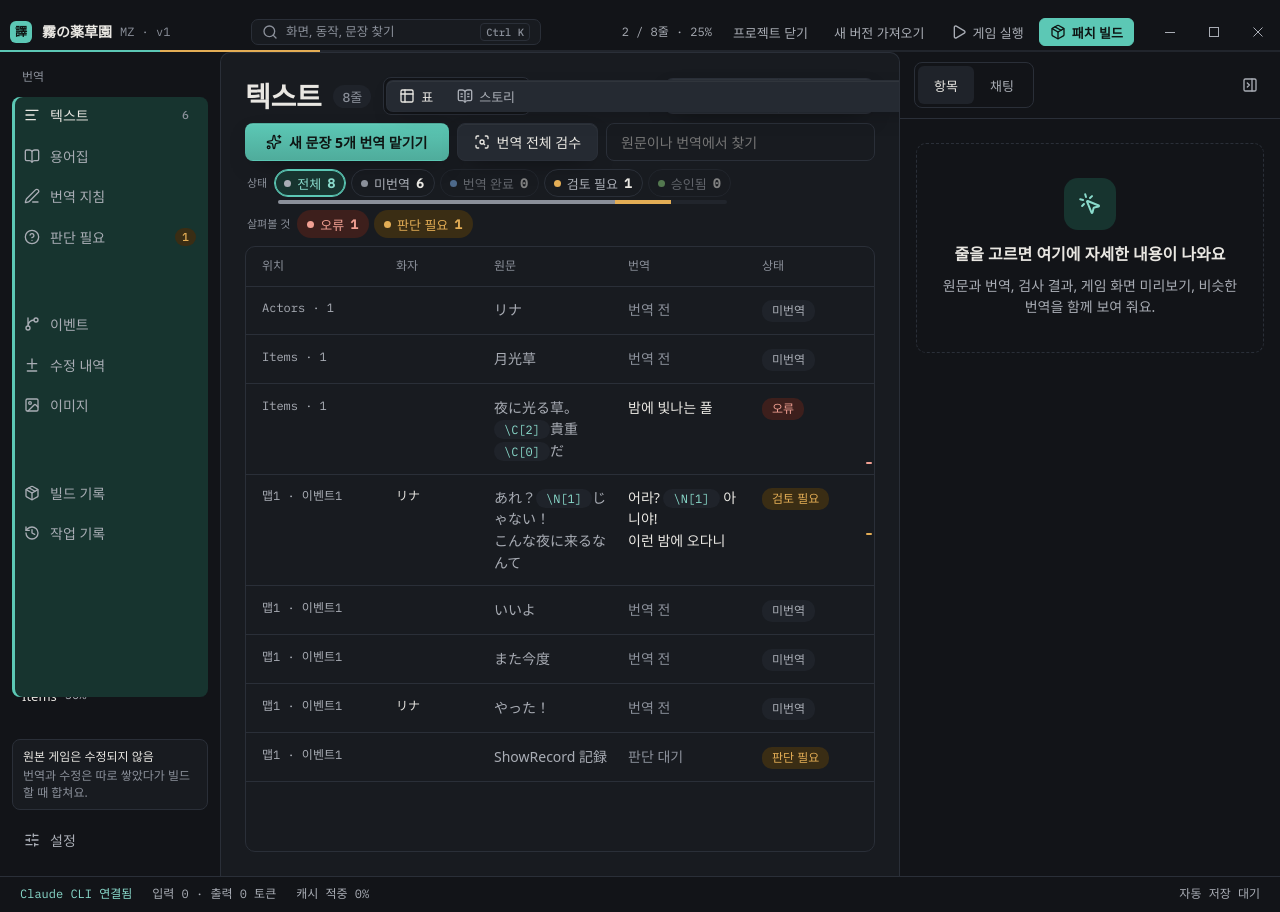
표와 스토리를 바꾸고, 범위를 고르지 않았으면 안내
The image size is (1280, 912).
Check: the text "霧の薬草園" is shown, box [42,21,112,43]
Check: the table named "텍스트 표" is shown, box [245,246,875,852]
Click the button "스토리" at (486, 96), box [445,81,527,111]
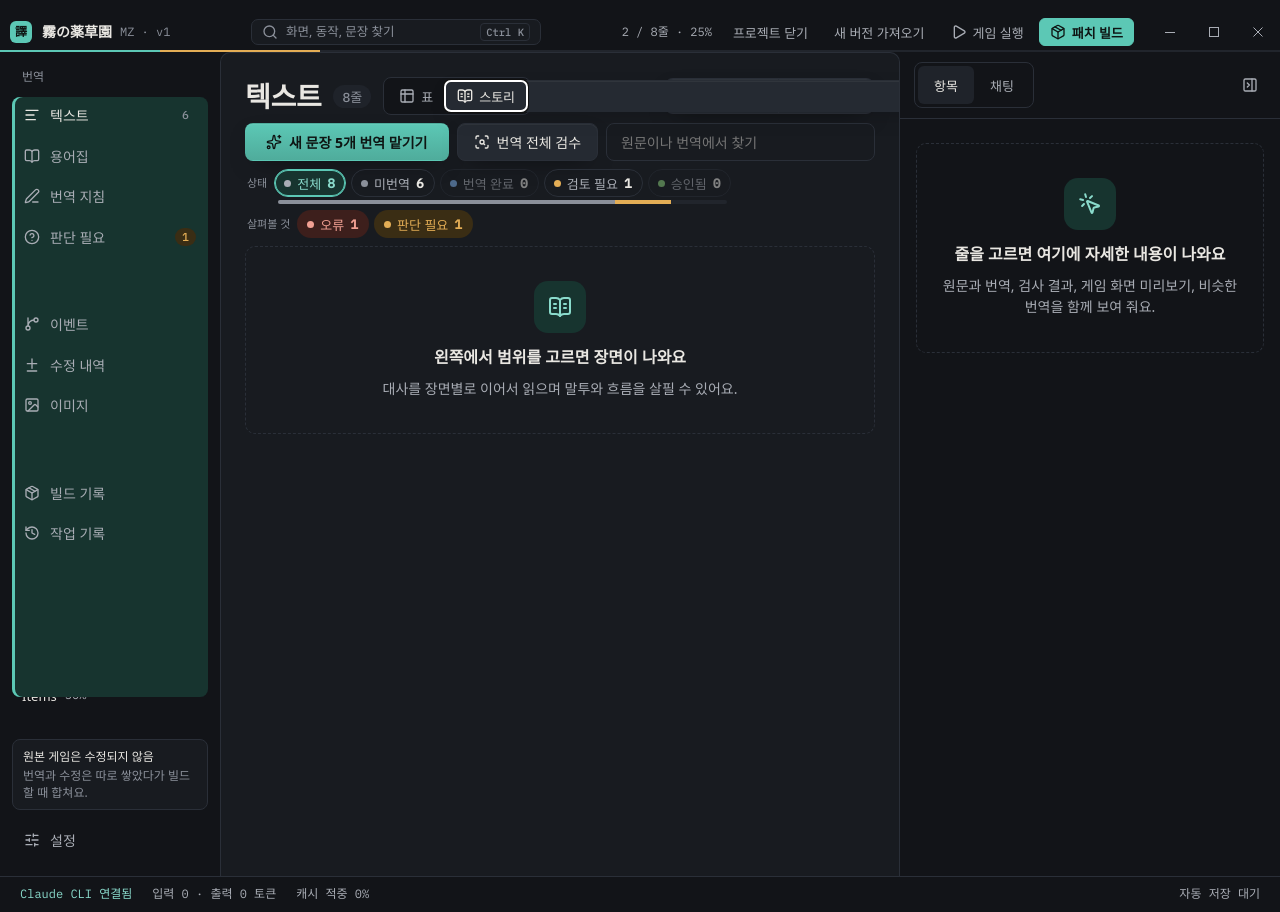
Check: the heading "왼쪽에서 범위를 고르면 장면이 나와요" is shown, box [434,345,686,370]
Click the button "표" at (416, 96), box [387,81,445,111]
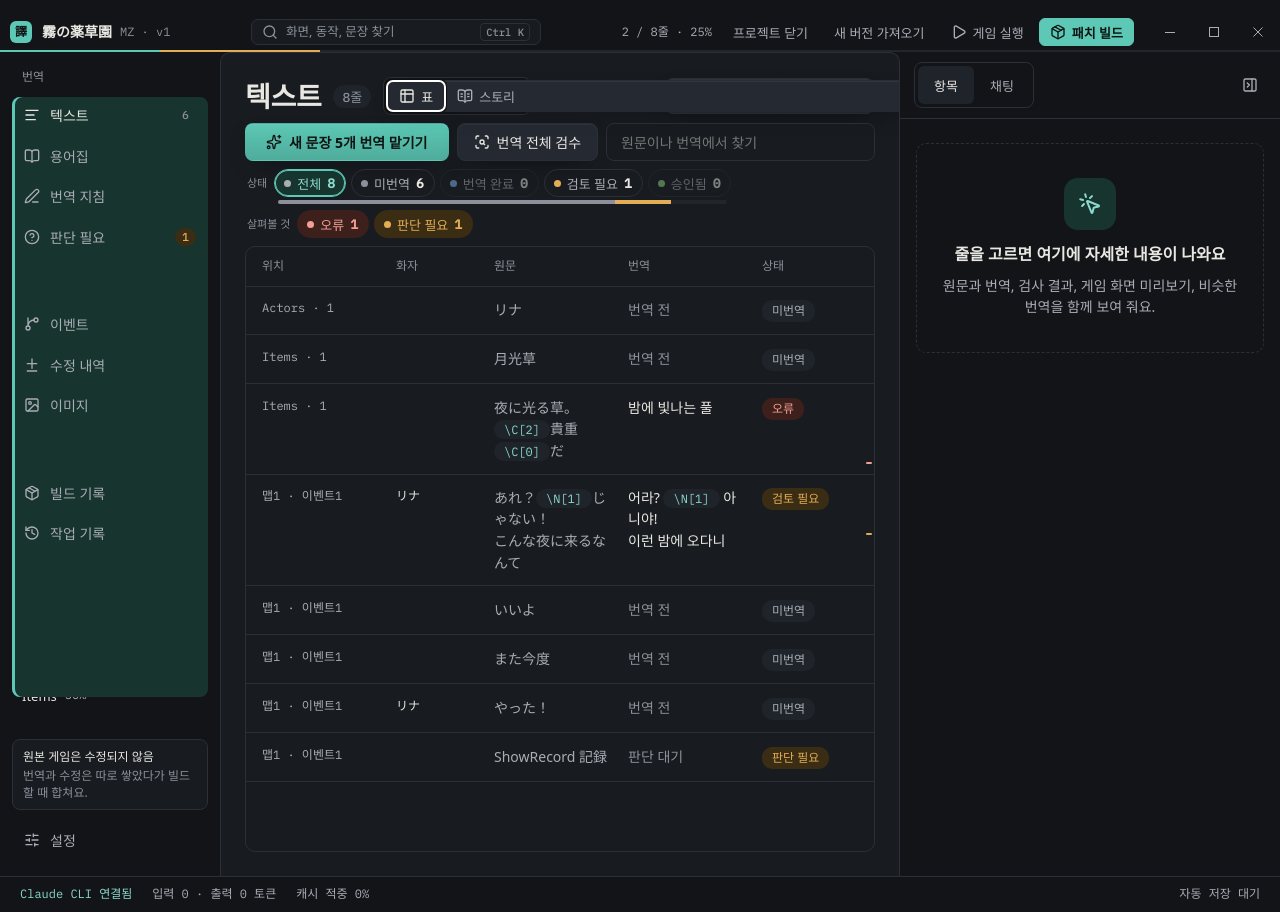
Check: the table named "텍스트 표" is shown, box [245,246,875,852]
